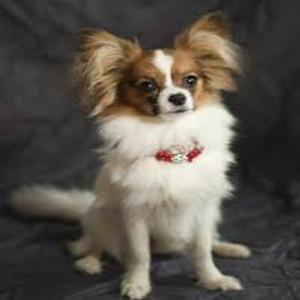yell: (10, 10, 251, 300)
